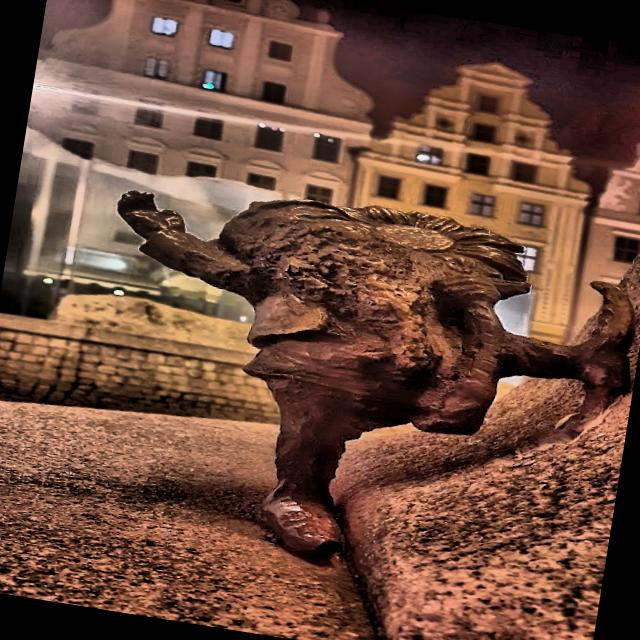Zyczliwek: (118, 192, 630, 558)
